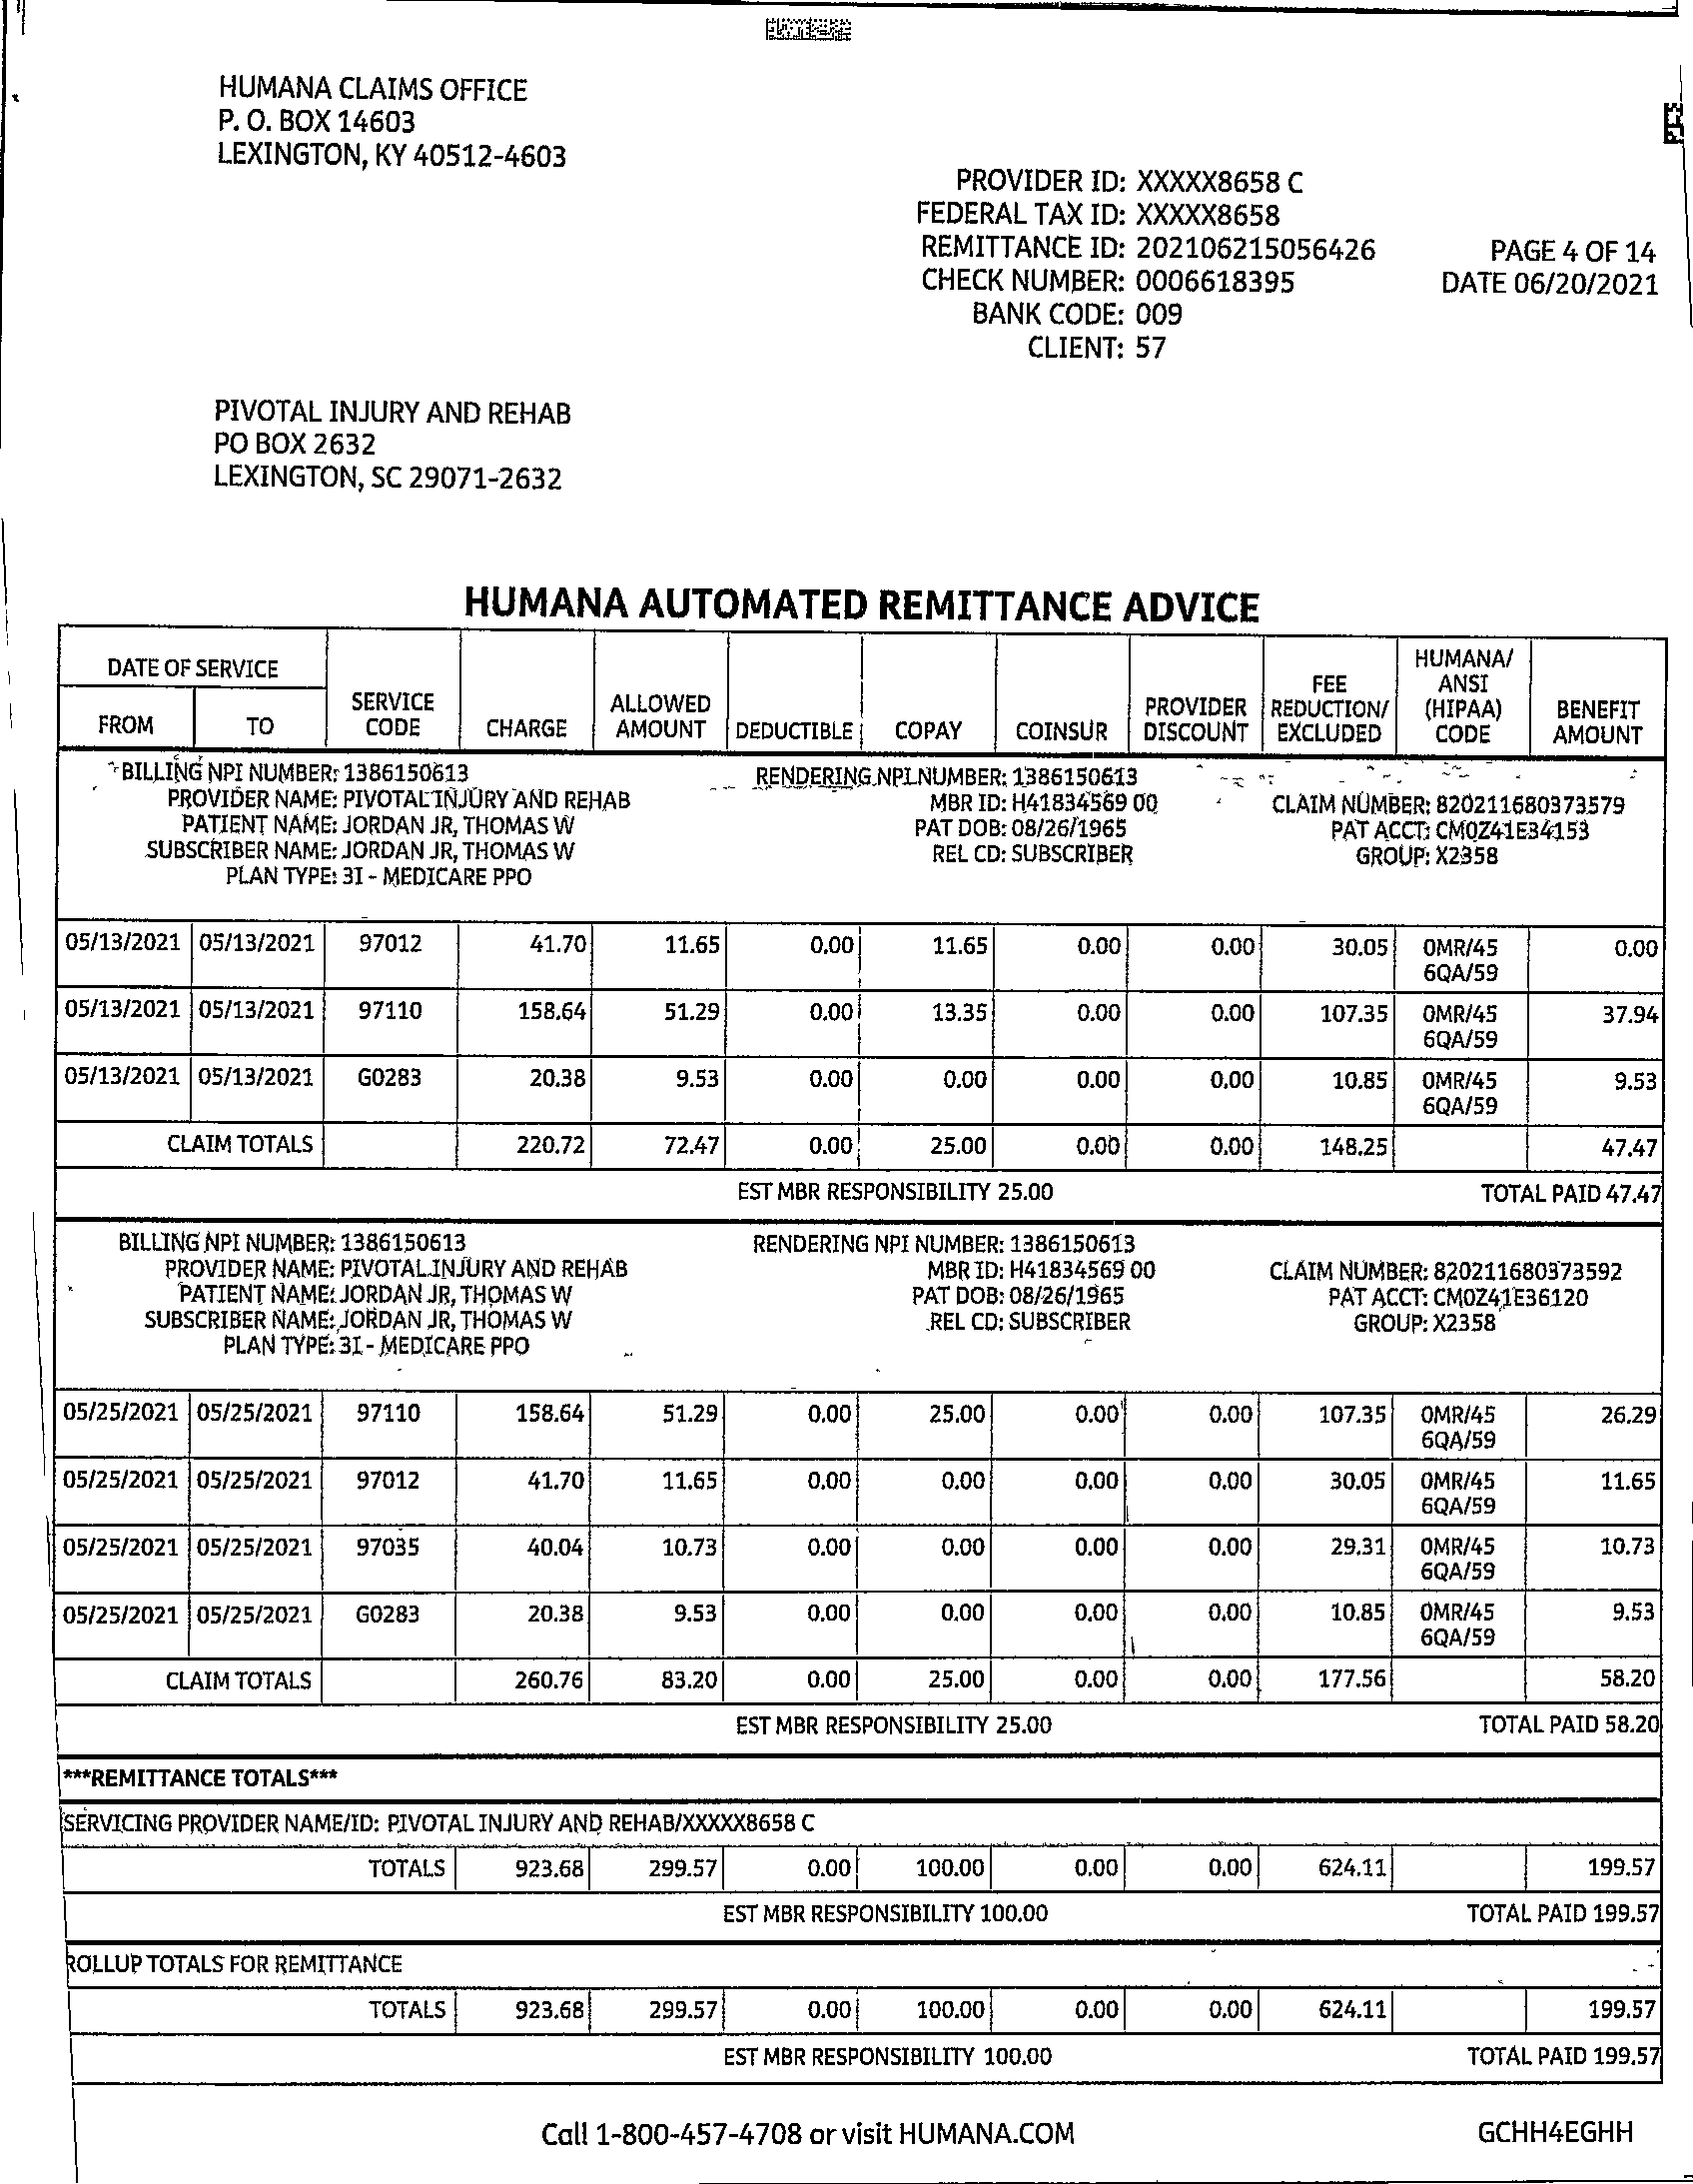data: (885, 138, 1404, 388), (105, 760, 642, 915), (112, 1216, 635, 1370), (202, 367, 612, 526), (752, 757, 1170, 885), (753, 1227, 1161, 1342), (1234, 1237, 1650, 1349), (1239, 778, 1640, 890)
table: (34, 604, 1679, 1759)
